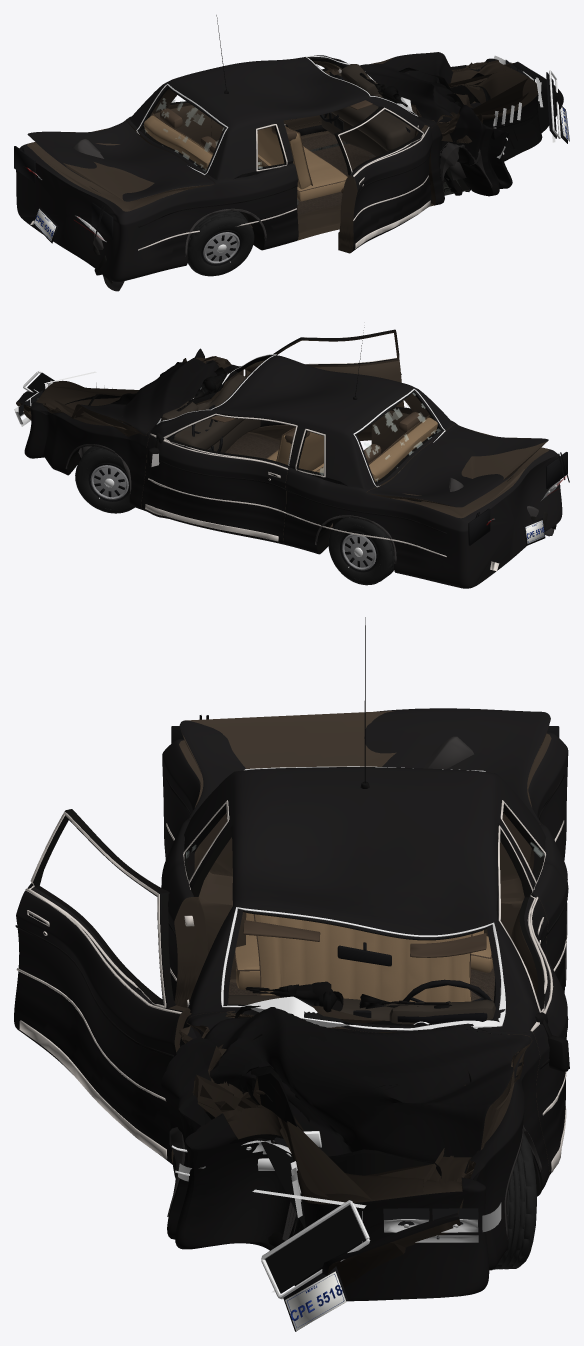
The model's file is coupe84_front_corner_R_d3_lod1.glb.
3 renders of one model, top to bottom at view 1: azimuth 30°, elevation 25°; view 2: azimuth 150°, elevation 25°; view 3: azimuth 270°, elevation 25°, orthographic. The views are drawn at different scales.
Parts seen in each view (by area): view 1: Body, Interior, Trunk, Door_FR, Hood, Wheel_RR_mesh, Ends, Trim, Glass, Trim_FR, Door_FL, Bumper_R; view 2: Body, Door_FL, Trunk, Interior, Hood, Wheel_RL_mesh, Wheel_FL_mesh, Trim_FL, Ends, Door_FR, Trim, Glass (+1 smaller); view 3: Body, Hood, Door_FR, Trunk, Interior, Ends, Door_FL, Trim, Trim_FR, Glass, Wheel_FL_mesh, Trim_FL (+1 smaller).
Part boxes in pixels (x1,y1,x2,y2): Body: (16, 55, 542, 281); Interior: (144, 64, 415, 201); Trunk: (27, 121, 214, 201); Door_FR: (334, 106, 432, 253); Hood: (359, 52, 563, 143); Wheel_RR_mesh: (187, 211, 254, 276); Ends: (14, 55, 569, 243); Trim: (138, 15, 493, 256); Glass: (136, 55, 417, 175); Trim_FR: (338, 107, 430, 248); Door_FL: (211, 62, 339, 141); Bumper_R: (72, 139, 124, 291); Body: (24, 348, 562, 588); Door_FL: (141, 413, 298, 544); Trunk: (367, 424, 548, 507); Interior: (161, 374, 437, 481); Hood: (16, 358, 238, 435); Wheel_RL_mesh: (328, 517, 394, 585); Wheel_FL_mesh: (75, 446, 134, 513); Trim_FL: (145, 413, 297, 541); Ends: (14, 371, 569, 545); Door_FR: (245, 329, 404, 440); Trim: (65, 327, 446, 563); Glass: (156, 354, 445, 487); Body: (161, 732, 568, 1301); Hood: (187, 1005, 531, 1288); Door_FR: (14, 809, 191, 1164); Trunk: (179, 708, 550, 824); Interior: (228, 913, 495, 1024); Ends: (171, 715, 559, 1331); Door_FL: (496, 824, 567, 1177); Trim: (161, 617, 568, 1239); Trim_FR: (15, 812, 189, 1159); Glass: (186, 766, 544, 1030); Wheel_FL_mesh: (493, 1133, 536, 1269); Trim_FL: (498, 825, 569, 1172).
Bounding box in the file's own units: 5.25 × 2.15 × 2.46.
Materials: 33 (5 with a texture image).
